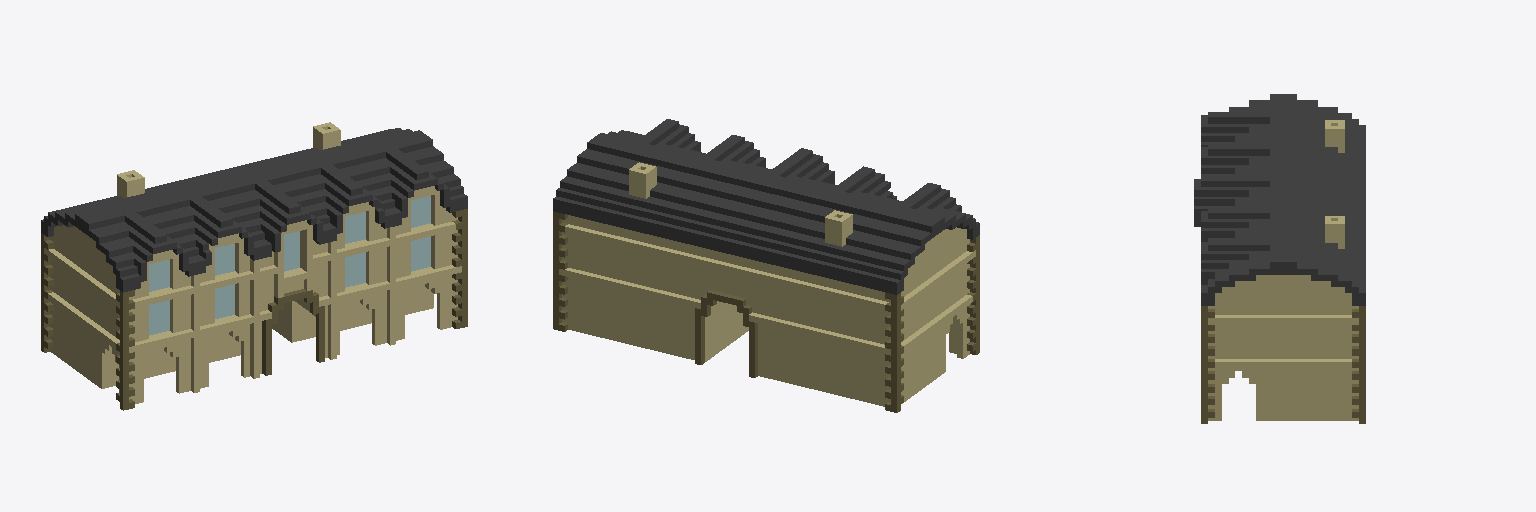
3 renders of one model, left to right at view 1: azimuth 30°, elevation 25°; view 2: azimuth 150°, elevation 25°; view 3: azimuth 270°, elevation 25°, orthographic.
Visible parts, largest first — view 1: French_Line; view 2: French_Line; view 3: French_Line.
Part boxes in pixels (bbox=[...]): French_Line: bbox=[41, 122, 467, 410]; French_Line: bbox=[553, 119, 979, 412]; French_Line: bbox=[1194, 94, 1365, 423].
Bounding box in the file's own units: 58 × 27 × 25.
Materials: 1 (1 with a texture image).